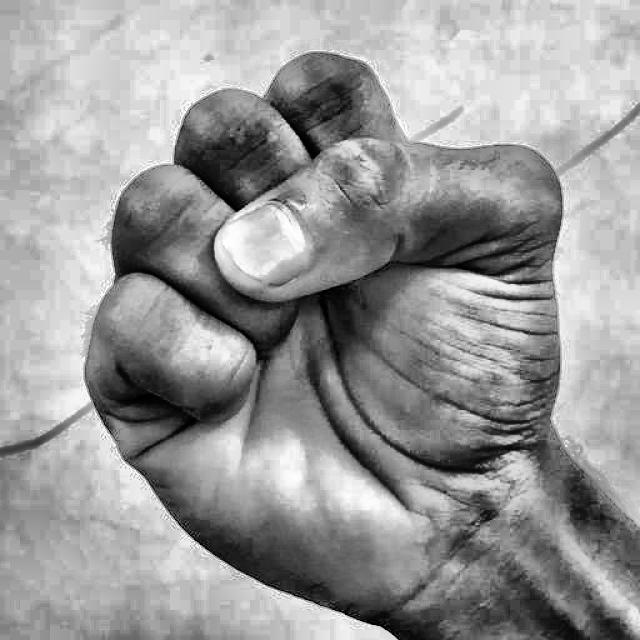Sha: (55, 29, 582, 636)
